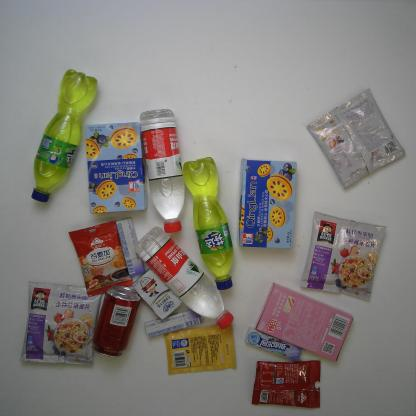Candy: (244, 326, 304, 363), (145, 308, 204, 340), (115, 218, 147, 276)
Dessert: (255, 281, 354, 363), (84, 121, 148, 215), (237, 156, 298, 250)
Drink: (134, 226, 235, 331), (30, 68, 100, 204), (182, 155, 235, 294), (140, 108, 186, 233), (92, 285, 142, 359)
Instant Drink: (306, 87, 406, 191), (300, 210, 388, 303), (19, 281, 103, 367), (67, 219, 135, 298), (251, 359, 321, 408)
Milk: (131, 267, 182, 322)
Seasoner: (164, 322, 237, 375)
